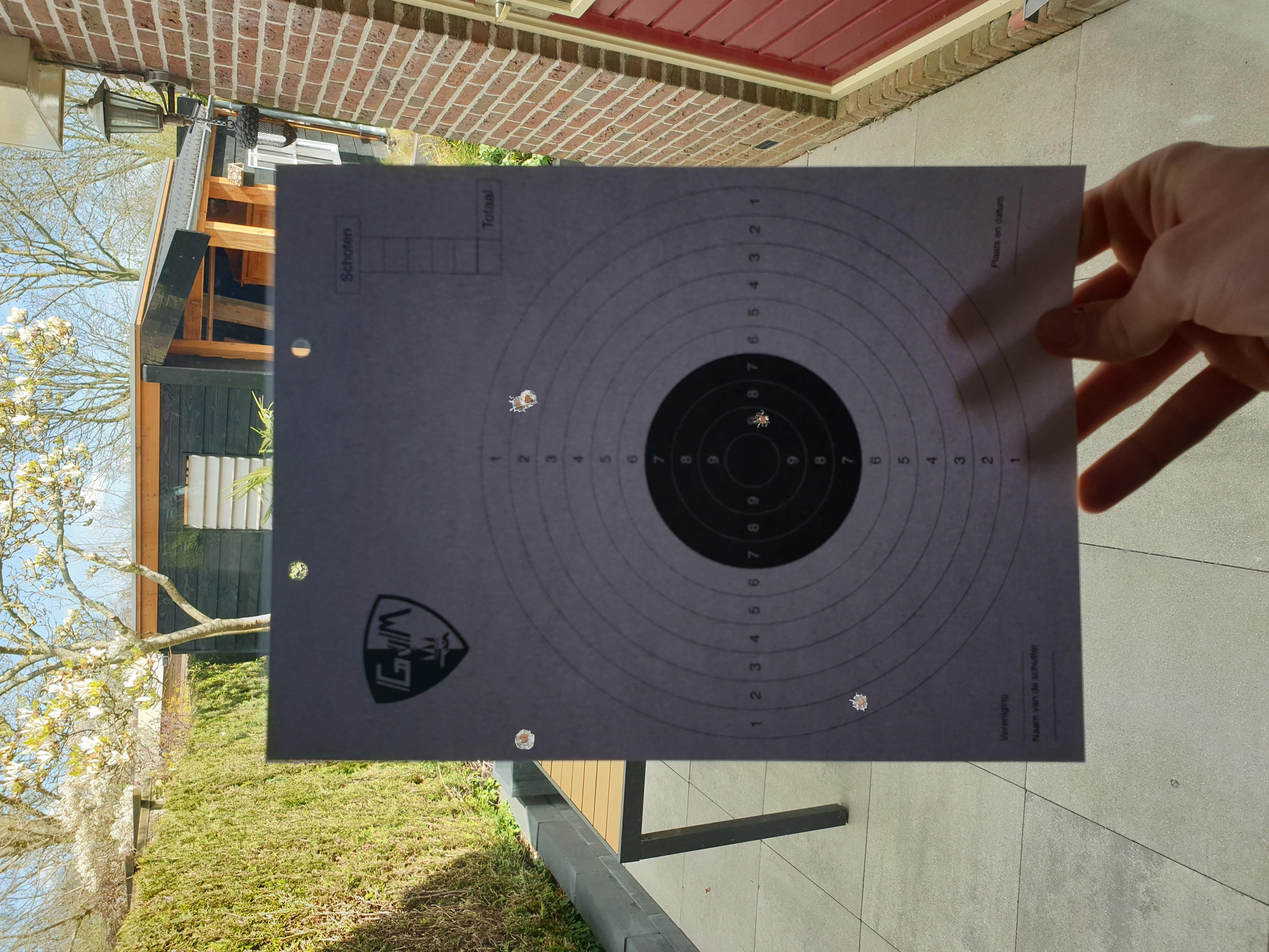hole: (516, 389, 538, 412), (507, 392, 529, 414), (515, 729, 534, 749), (851, 692, 869, 712), (753, 411, 771, 428)
